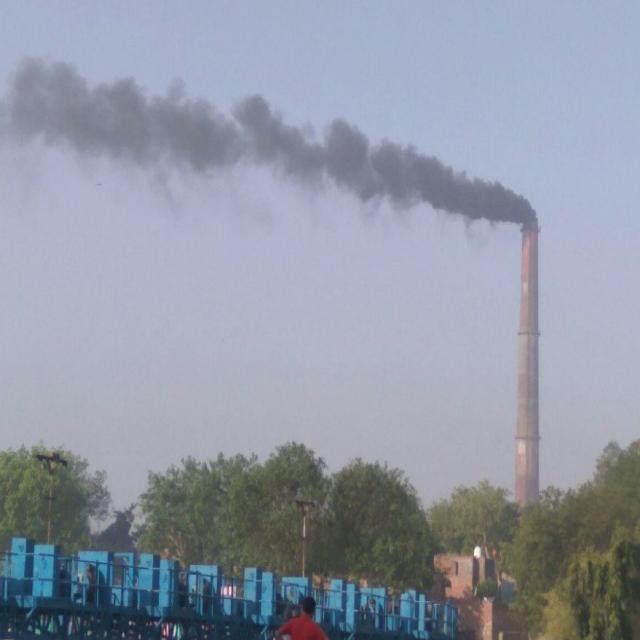Smoke: (0, 56, 538, 233)
